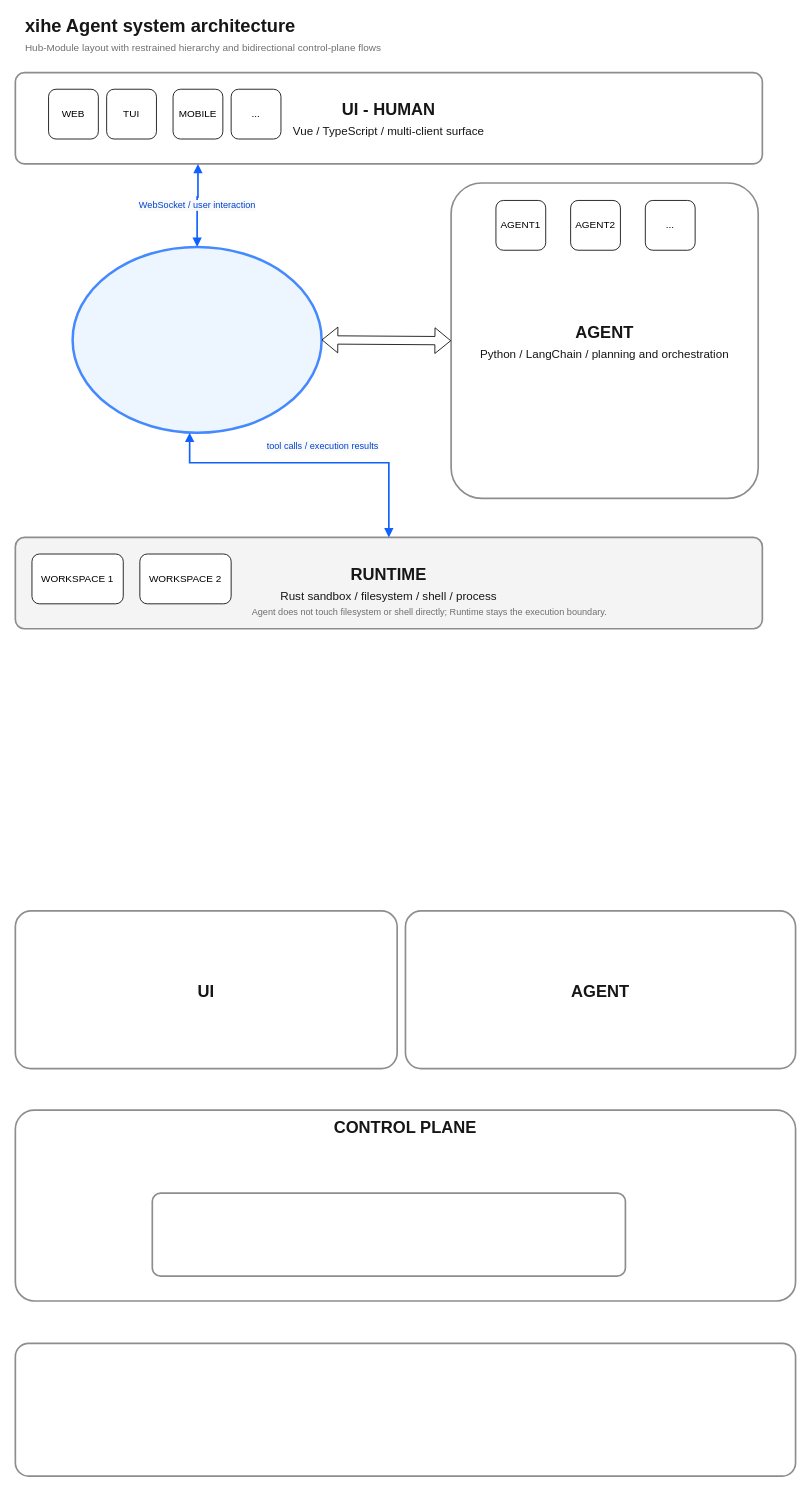
The diagram is 810 pixels wide and 1491 high, and some of its shapes have lost their labels. The shapes that lost their labels are listed below. From the top down, each one's centre as x and y in pixels, then its label:
the point at 196,339: Control Plane routing / policy / session / broadcast
the point at 388,1234: DATABASE
the point at 405,1409: RUNTIME
